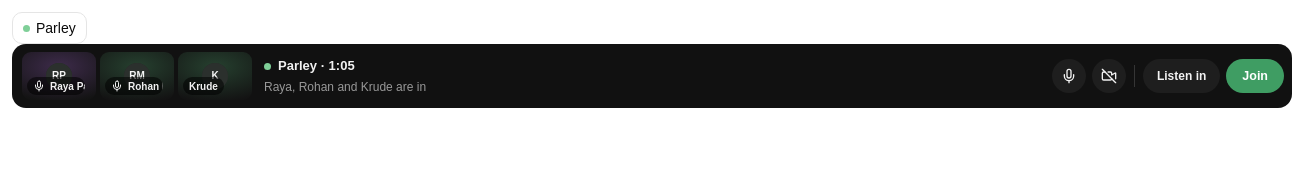
Test: a parley in a teamspace › says why a join was refused
Click the button "Join" at (1255, 76), box [1226, 59, 1284, 93]
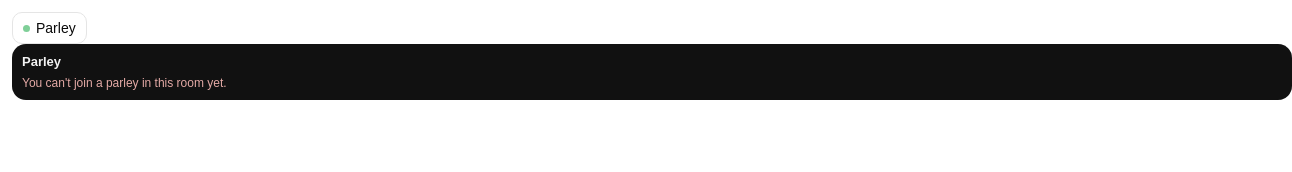
Check: the message reads "You can't join a parley in this room yet.", box [22, 76, 227, 90]
